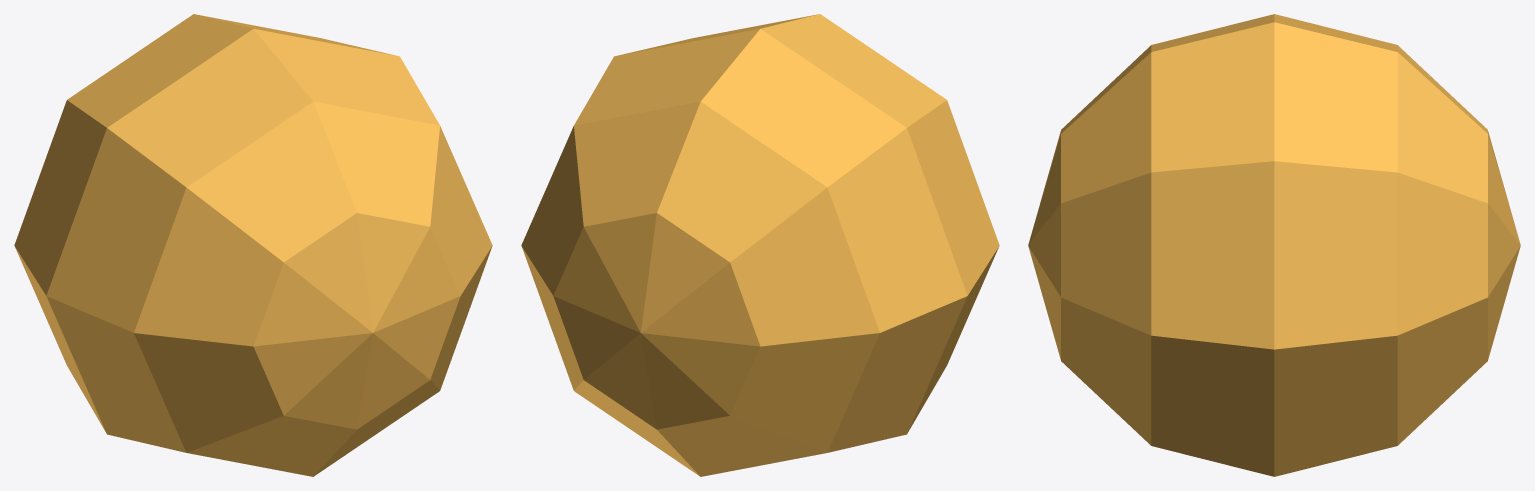
File: ball.gltf
3 views of the same model, side by side, from view 1: azimuth 30°, elevation 25°; view 2: azimuth 150°, elevation 25°; view 3: azimuth 270°, elevation 25° (orthographic). The views are drawn at different scales.
Visible parts, largest first — view 1: ball; view 2: ball; view 3: ball.
Boxes of the visible parts, bbox=[...] form: ball: bbox=[14, 14, 492, 476]; ball: bbox=[521, 14, 999, 476]; ball: bbox=[1028, 14, 1520, 476].
Bounding box in the file's own units: 2 × 2 × 2.
